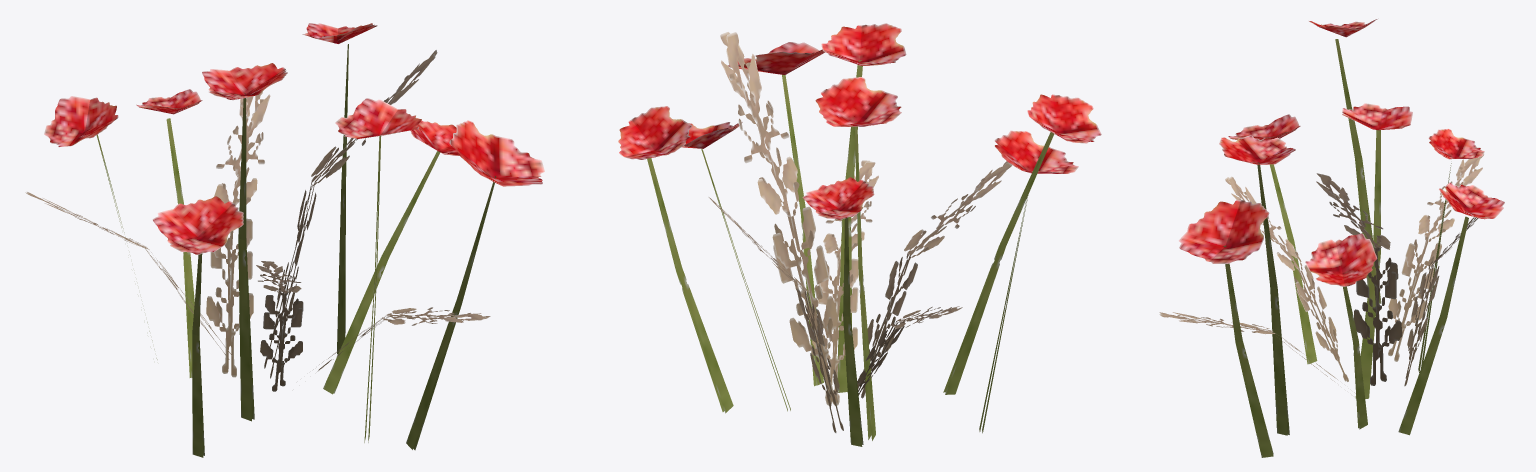
The model's file is Flower_010.fbx.
The picture shows the model from 3 angles, left to right: view 1: azimuth 30°, elevation 25°; view 2: azimuth 150°, elevation 25°; view 3: azimuth 270°, elevation 25°; orthographic projection. The views are drawn at different scales.
Parts seen in each view (by area): view 1: FlowerPatch_010; view 2: FlowerPatch_010; view 3: FlowerPatch_010.
Part boxes in pixels (x1,y1,x2,y2): FlowerPatch_010: [25, 23, 544, 457]; FlowerPatch_010: [618, 23, 1101, 446]; FlowerPatch_010: [1159, 19, 1504, 457].
Size of the model in its own units: 56.8 by 46.33 by 46.98.
